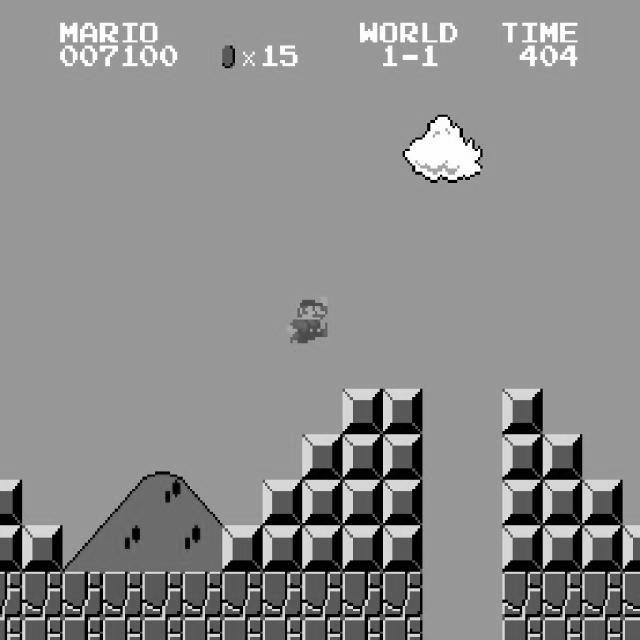11- little_mario: (284, 294, 328, 343)
17- undestructible_block: (22, 572, 63, 618), (62, 572, 103, 618), (102, 572, 143, 618), (142, 572, 183, 618), (182, 572, 223, 618), (222, 572, 263, 618), (262, 572, 303, 618), (302, 572, 343, 618), (342, 572, 383, 618), (382, 572, 423, 618), (502, 572, 543, 618), (542, 572, 583, 618), (582, 572, 623, 618), (0, 572, 22, 618), (22, 617, 63, 640), (62, 617, 103, 640), (102, 617, 143, 640), (142, 617, 183, 640), (182, 617, 223, 640), (222, 617, 263, 640), (262, 617, 303, 640), (302, 617, 343, 640), (342, 617, 383, 640), (382, 617, 423, 640), (502, 617, 543, 640), (542, 617, 583, 640), (582, 617, 623, 640), (622, 571, 640, 617), (0, 617, 22, 640), (622, 617, 640, 639)
9- hard_block: (22, 526, 63, 572), (222, 526, 263, 572), (262, 480, 303, 526), (262, 526, 303, 572), (302, 434, 343, 480), (302, 480, 343, 526), (302, 526, 343, 572), (342, 388, 383, 434), (342, 434, 383, 480), (342, 480, 383, 526), (342, 526, 383, 572), (382, 388, 423, 434), (382, 434, 423, 480), (382, 480, 423, 526), (382, 526, 423, 572), (502, 388, 543, 434), (502, 434, 543, 480), (502, 480, 543, 526), (502, 526, 543, 572), (542, 434, 583, 480), (542, 480, 583, 526), (542, 526, 583, 572), (582, 480, 623, 526), (582, 526, 623, 572), (0, 480, 22, 526), (0, 526, 22, 572), (622, 525, 640, 571)
